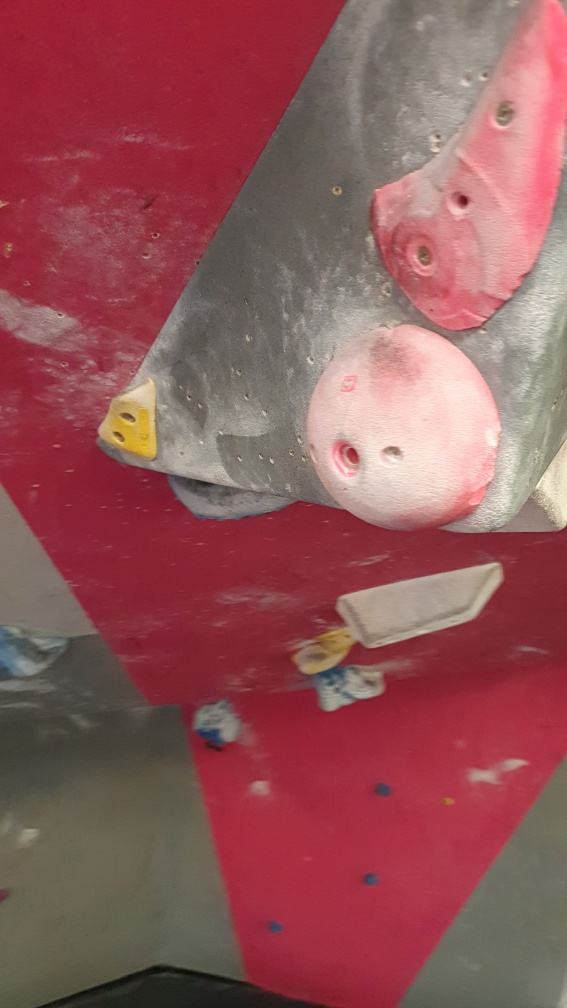Crimp: (97, 373, 165, 460)
Pinch: (336, 563, 505, 649)
Sloper: (301, 324, 500, 531)
